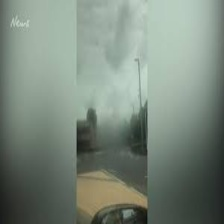smoke: (88, 5, 136, 119)
